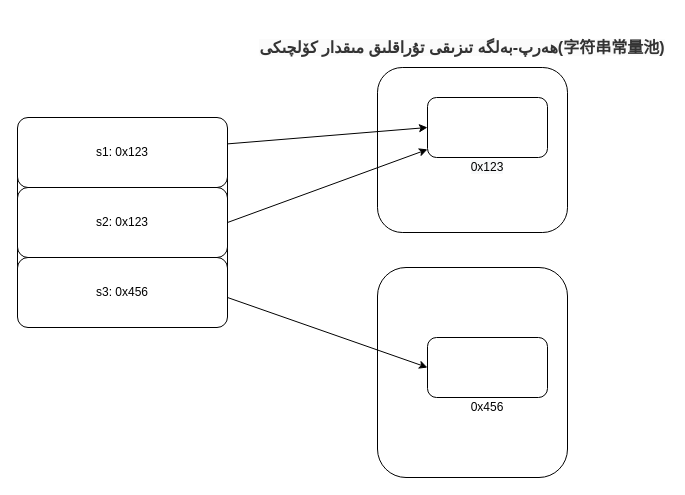
The diagram is 685 pixels wide and 495 high, and some of its shapes have lost their labels. The centre of each missing label's shape, as x and y in pixels:
"Eleven": pixel 487 127
String("Eleven"): pixel 487 367
